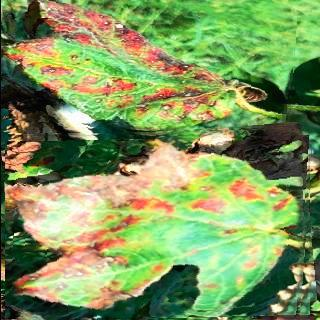blight: (4, 128, 313, 320), (0, 0, 295, 135)
